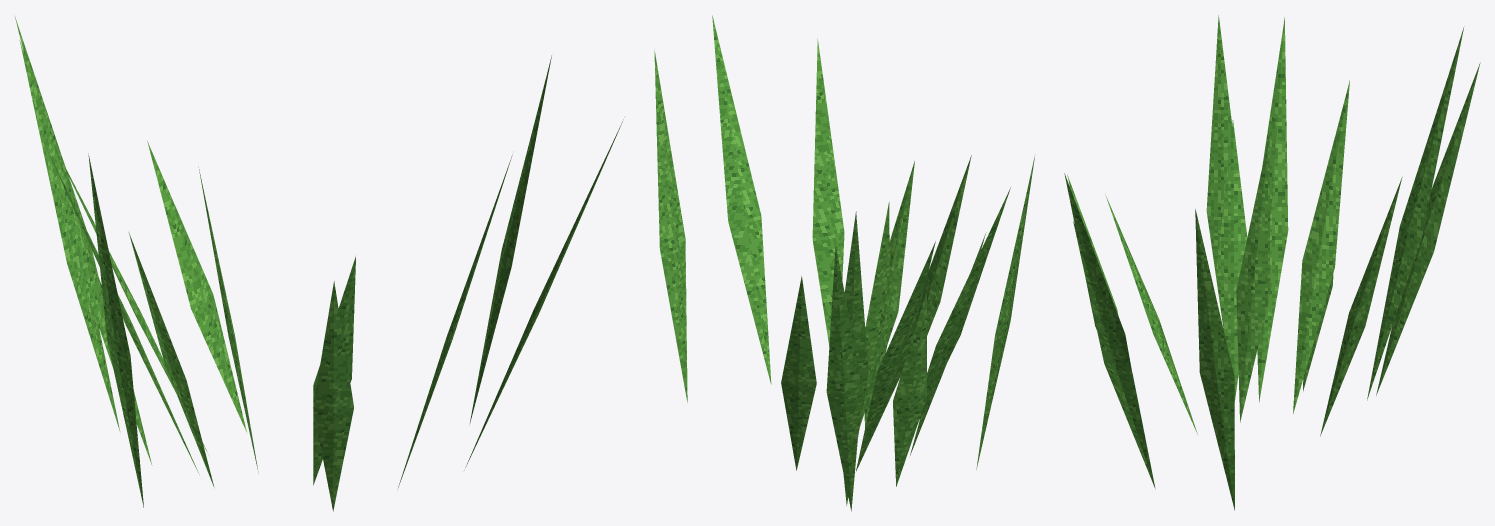
The model's file is grass_tuft_b.glb.
The picture shows the model from 3 angles, left to right: view 1: azimuth 30°, elevation 25°; view 2: azimuth 150°, elevation 25°; view 3: azimuth 270°, elevation 25°; orthographic projection. The views are drawn at different scales.
Parts seen in each view (by area): view 1: Body.021; view 2: Body.021; view 3: Body.021.
Boxes of the visible parts, x1,y1,x2,y2 form: Body.021: (15, 17, 623, 511); Body.021: (654, 15, 1035, 511); Body.021: (1064, 15, 1480, 510).
Bounding box in the file's own units: 0.6523 × 0.5323 × 0.5772.
1 material, 1 textured.
